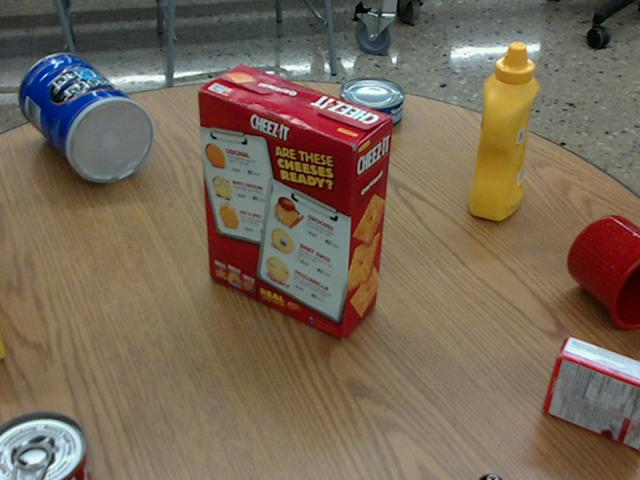cracker_box: (200, 65, 394, 337)
gelatin_box: (544, 337, 639, 450)
large_marker: (488, 478, 503, 479)
master_chef_can: (21, 54, 155, 182)
mug: (567, 214, 639, 328)
mustard_bottle: (469, 42, 539, 218)
potted_meat_can: (237, 87, 323, 196)
sugar_box: (0, 314, 8, 358)
tomato_soup_can: (0, 411, 97, 479)
tuna_fish_can: (340, 75, 405, 129)
